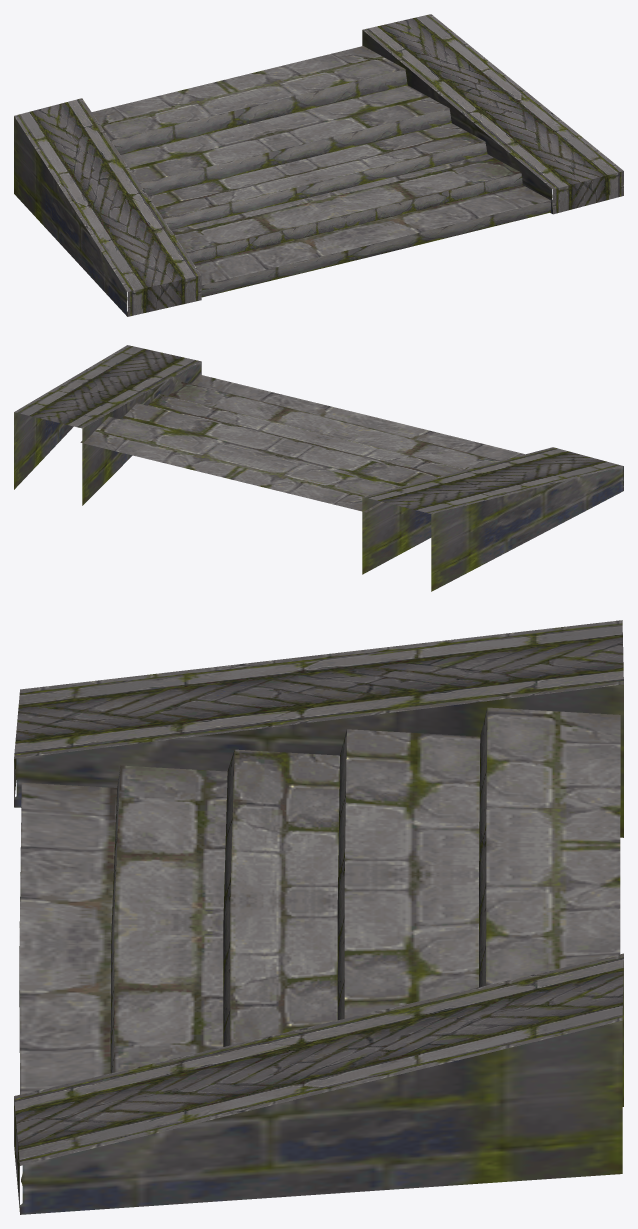
The model's file is 1005_Item_taijie_1.FBX.
3 renders of one model, top to bottom at view 1: azimuth 30°, elevation 25°; view 2: azimuth 150°, elevation 25°; view 3: azimuth 270°, elevation 25°, orthographic. The views are drawn at different scales.
Visible parts, largest first — view 1: 1005_Item_taijie_1; view 2: 1005_Item_taijie_1; view 3: 1005_Item_taijie_1.
Part boxes in pixels (left/top/right/bottom): 1005_Item_taijie_1: left=14, top=14, right=623, bottom=316; 1005_Item_taijie_1: left=14, top=345, right=623, bottom=591; 1005_Item_taijie_1: left=14, top=620, right=623, bottom=1214.
Bounding box in the file's own units: 733 × 397 × 113.
Materials: 1 (1 with a texture image).
